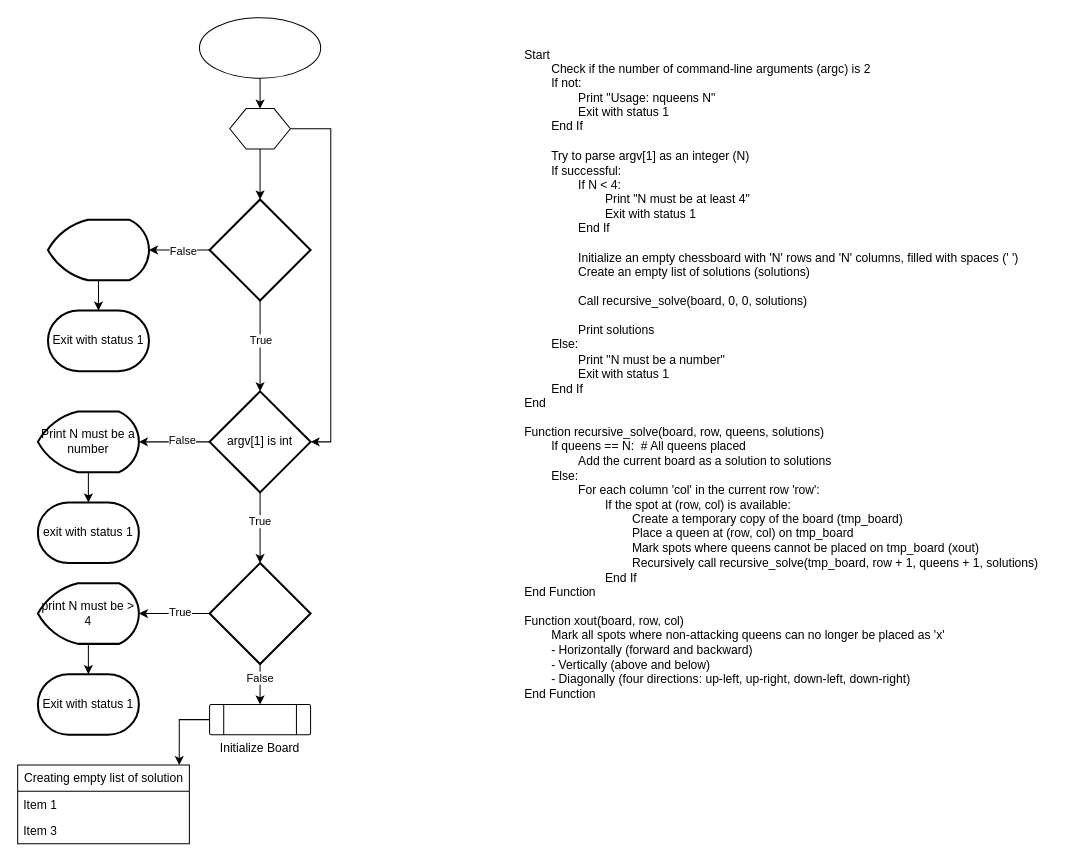
This 1076x865 diagram has some shape labels left out. The shapes that lost their labels are listed below. From the top down, each one's centre as x and y in pixels, then its label:
point 259,47: Start
point 97,249: print Usage: nqueens N
point 259,249: argc >= 2
point 259,613: N < 4
